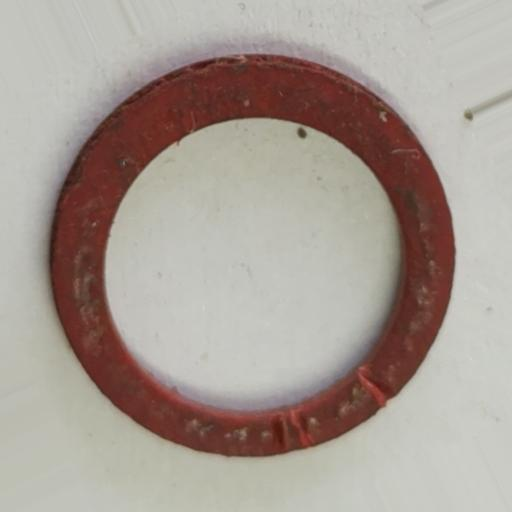defect: (270, 411, 317, 451), (356, 365, 397, 410)
